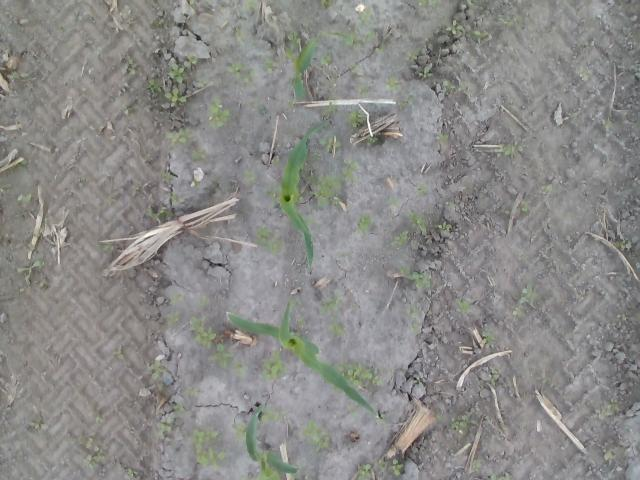Maize: (226, 300, 380, 420), (275, 118, 328, 268), (245, 401, 300, 480), (290, 37, 316, 102)
Weeds: (331, 360, 384, 391), (191, 428, 226, 471), (310, 174, 344, 208), (326, 29, 374, 51), (15, 256, 44, 292), (302, 420, 332, 452), (188, 315, 216, 349), (260, 349, 288, 382), (226, 60, 256, 88), (318, 288, 346, 316), (252, 226, 279, 254), (282, 30, 302, 66), (208, 98, 230, 130), (208, 343, 234, 370), (164, 126, 195, 147), (82, 446, 107, 469), (496, 140, 524, 158), (164, 88, 188, 108), (146, 204, 172, 222), (598, 398, 620, 419), (407, 271, 431, 290), (259, 406, 287, 422), (450, 414, 478, 430), (345, 108, 368, 127), (341, 158, 359, 182), (354, 212, 372, 236), (406, 212, 427, 232), (265, 181, 281, 206), (298, 165, 318, 185), (328, 315, 346, 336), (318, 136, 341, 152), (230, 422, 248, 442), (148, 360, 166, 380), (520, 284, 538, 304), (168, 62, 185, 82), (156, 418, 174, 436), (71, 436, 98, 448), (248, 100, 268, 116), (390, 230, 410, 246), (357, 7, 373, 27), (28, 416, 50, 430), (397, 93, 415, 110), (454, 298, 473, 314), (388, 459, 404, 477), (404, 302, 420, 320), (322, 101, 341, 116), (163, 192, 186, 204), (357, 463, 373, 480), (231, 360, 248, 376), (446, 19, 464, 34), (8, 158, 28, 171), (16, 192, 32, 208), (261, 57, 278, 72), (497, 15, 522, 25), (488, 367, 500, 387), (384, 76, 401, 90), (458, 81, 472, 98), (481, 330, 495, 346), (242, 170, 258, 184), (146, 78, 162, 92), (404, 47, 420, 61), (602, 448, 617, 462), (396, 262, 411, 276), (166, 310, 180, 325), (184, 53, 198, 68), (168, 292, 184, 305), (356, 82, 369, 98), (182, 386, 200, 397), (374, 412, 388, 426), (373, 459, 388, 472), (415, 182, 428, 197), (536, 372, 552, 384), (191, 149, 207, 161), (6, 70, 30, 78), (294, 187, 306, 203), (418, 66, 434, 78), (127, 58, 138, 75), (112, 345, 124, 360), (612, 240, 630, 250), (304, 151, 320, 162), (520, 200, 533, 213), (470, 459, 482, 473), (234, 26, 246, 40), (319, 52, 331, 66), (442, 80, 456, 92), (0, 181, 15, 192), (95, 244, 115, 252), (242, 0, 258, 10), (436, 221, 452, 231), (346, 404, 358, 417), (161, 170, 174, 182), (386, 196, 400, 207), (579, 67, 590, 81), (472, 29, 489, 38), (70, 9, 82, 21), (435, 134, 447, 146), (601, 118, 612, 131), (490, 473, 510, 480), (302, 216, 316, 226), (196, 76, 208, 87), (348, 62, 360, 73), (328, 77, 338, 90), (413, 376, 424, 387), (195, 295, 206, 306), (564, 112, 579, 120), (77, 176, 87, 188), (132, 184, 142, 196), (192, 177, 202, 189), (366, 136, 378, 146), (541, 184, 553, 194), (512, 306, 522, 318), (121, 103, 130, 116), (296, 318, 306, 329), (173, 404, 184, 414), (376, 43, 387, 53), (290, 300, 302, 309), (418, 0, 438, 5), (125, 467, 136, 476), (320, 0, 331, 9), (40, 278, 50, 287), (616, 313, 628, 320), (7, 26, 14, 38), (338, 250, 348, 258), (6, 277, 14, 287), (106, 196, 116, 204), (152, 20, 162, 28), (409, 324, 420, 331), (157, 384, 165, 393), (388, 366, 394, 376), (240, 474, 250, 480), (518, 253, 526, 260), (433, 413, 441, 420), (350, 303, 358, 310), (95, 416, 103, 423), (286, 100, 292, 108), (500, 209, 509, 214), (388, 211, 395, 217), (466, 0, 473, 6), (444, 202, 454, 206), (43, 217, 49, 223), (190, 0, 196, 5)
